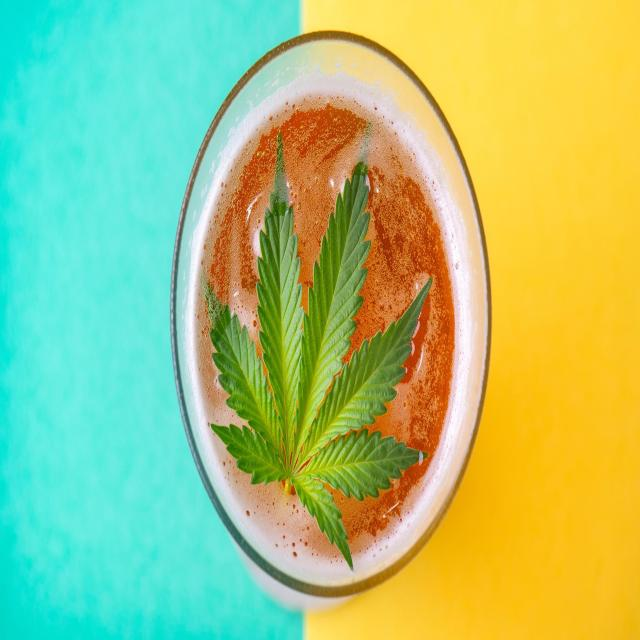cannabis: (204, 134, 434, 570)
